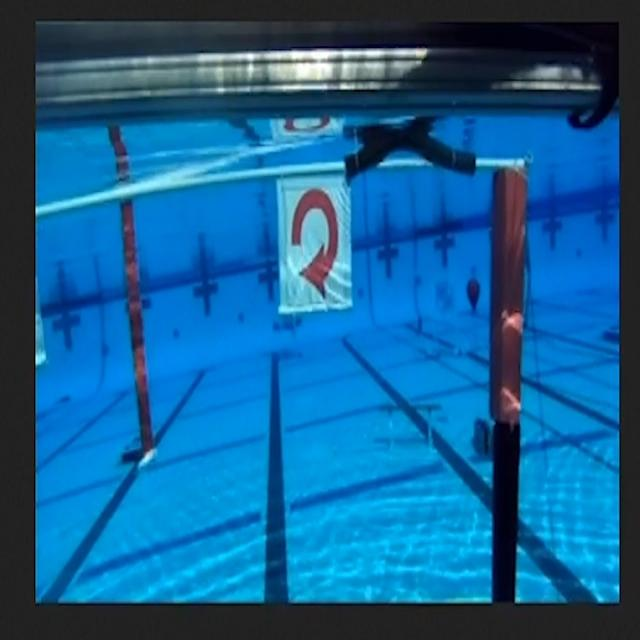Gate: (41, 170, 528, 588)
